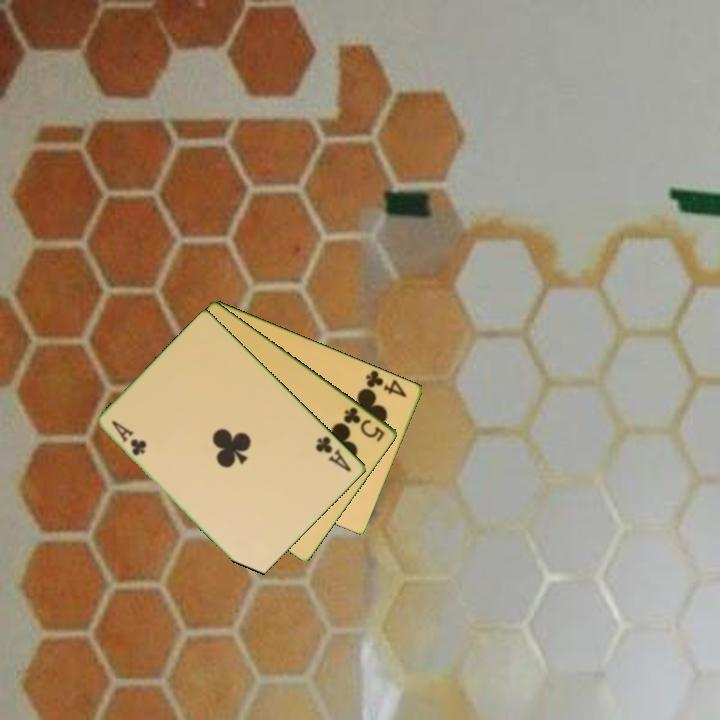4c: (362, 366, 410, 400)
5c: (340, 403, 388, 445)
Ac: (312, 433, 355, 475), (108, 416, 150, 459)
